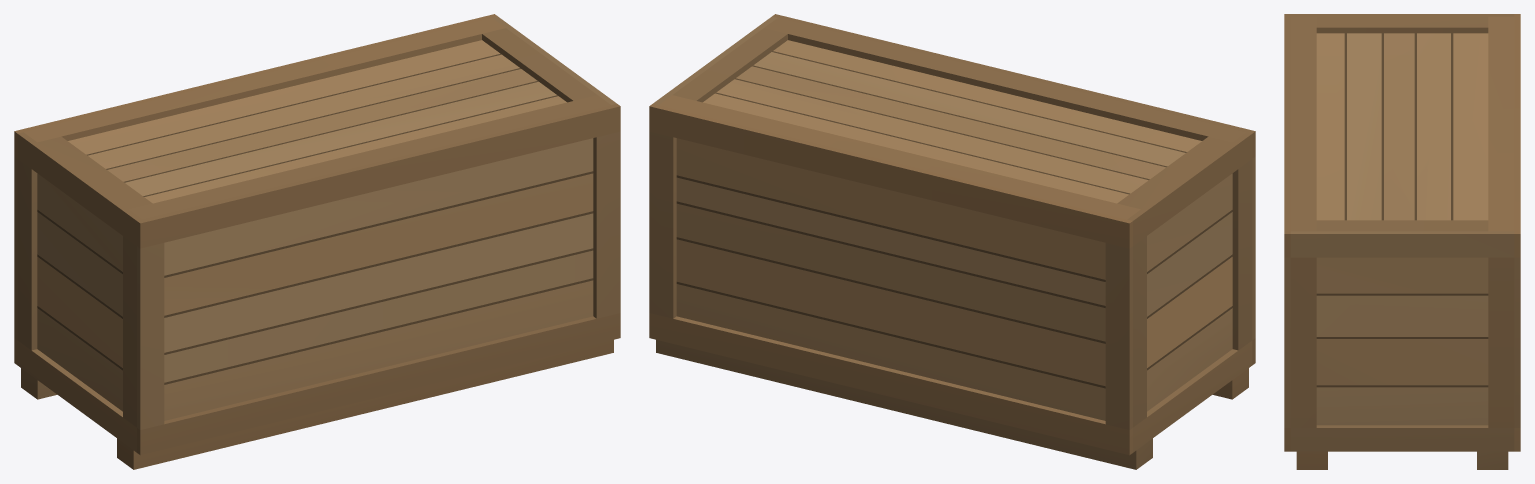
The model's file is crate.factory_long.pale.glb.
The picture shows the model from 3 angles, left to right: view 1: azimuth 30°, elevation 25°; view 2: azimuth 150°, elevation 25°; view 3: azimuth 270°, elevation 25°; orthographic projection. The views are drawn at different scales.
Parts seen in each view (by area): view 1: crate_factory_long_pale; view 2: crate_factory_long_pale; view 3: crate_factory_long_pale.
Part boxes in pixels (box(x1,y1,x2,y2)): crate_factory_long_pale: box(14, 14, 620, 469); crate_factory_long_pale: box(649, 14, 1255, 469); crate_factory_long_pale: box(1284, 14, 1520, 469).
Size of what is drawn, in the model's own units: 1.8 by 0.9 by 0.818.
